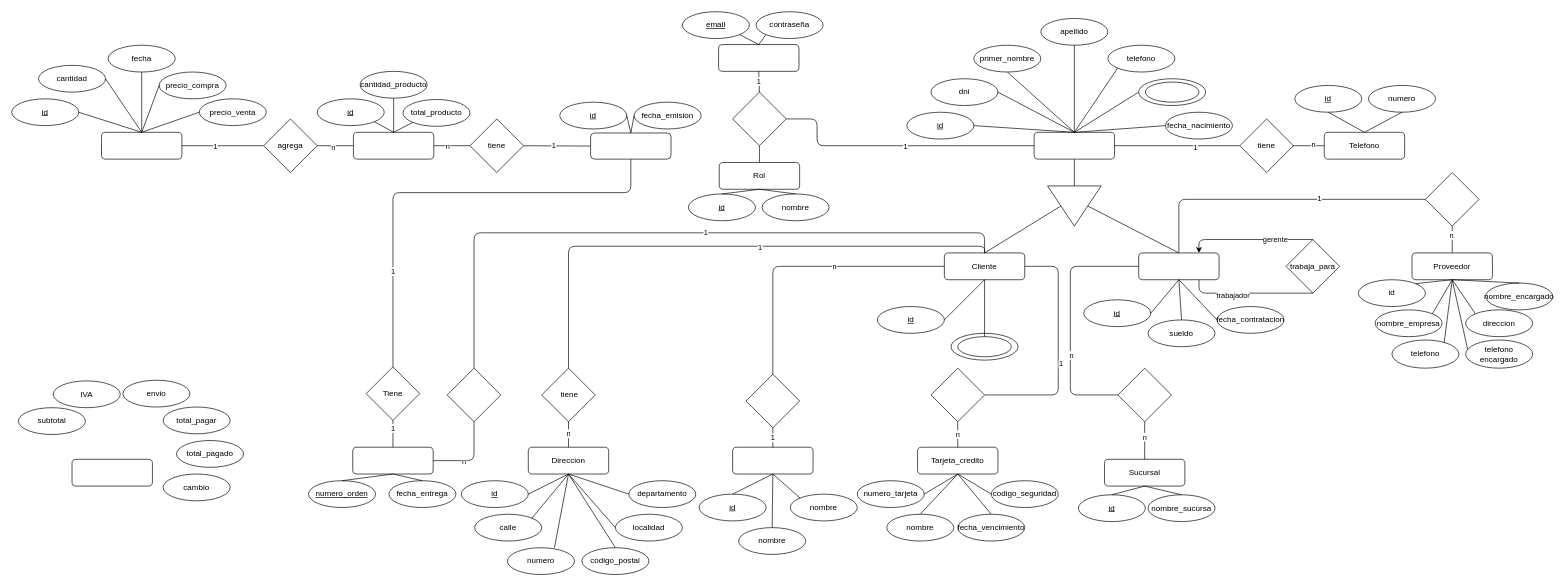
Image size: 1566x586. Some labels were removed from this diagram. Here are the shapes that lost their labels. From the top down, the centre of each, then its label:
point (758, 57): Login
point (1172, 91): genero
point (759, 118): registran
point (141, 145): Inventario
point (393, 145): Detalle
point (630, 145): Factura
point (1074, 145): Persona
point (1074, 205): ES
point (1452, 199): Asignado
point (1178, 266): Empleado
point (984, 346): tipo_cliente
point (474, 394): Reaiza
point (772, 401): reside
point (957, 394): posee
point (1144, 394): trabaja_en
point (111, 472): Carrito_compra
point (392, 460): Pedido_cliente
point (772, 460): Pais
